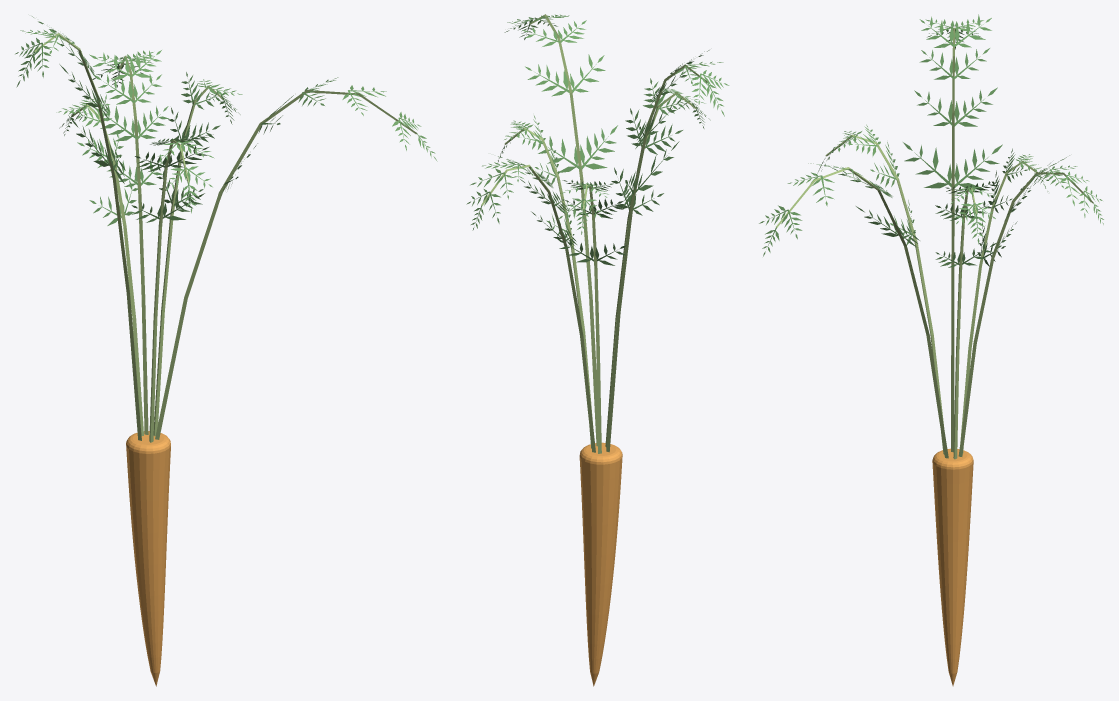
The model's file is carrot_harvest_v07.glb.
The picture shows the model from 3 angles, left to right: view 1: azimuth 30°, elevation 25°; view 2: azimuth 150°, elevation 25°; view 3: azimuth 270°, elevation 25°; orthographic projection. The views are drawn at different scales.
Parts seen in each view (by area): view 1: plant; view 2: plant; view 3: plant.
Part boxes in pixels (box(x1,y1,x2,y2)): plant: box(15, 16, 437, 686); plant: box(466, 14, 729, 686); plant: box(759, 14, 1103, 686).
Size of the model in its own units: 0.2215 by 0.4553 by 0.2285.
Materials: 1 (1 with a texture image).
